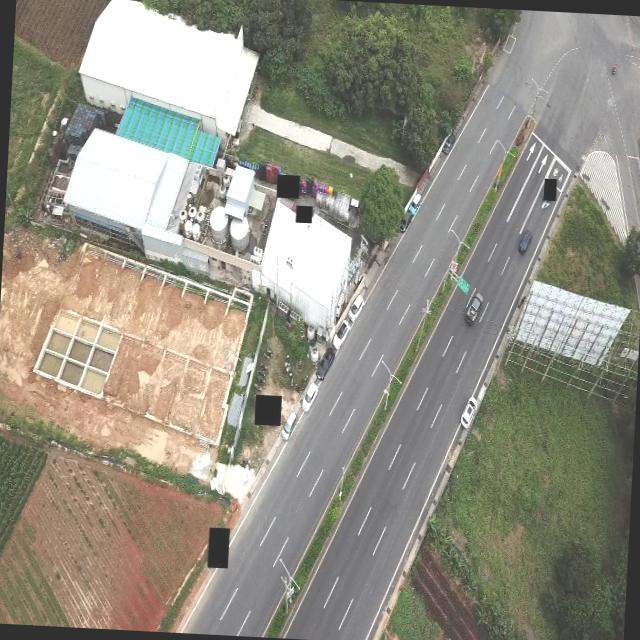car: (331, 316, 352, 350), (465, 290, 484, 324), (315, 347, 334, 381), (461, 394, 478, 428), (301, 380, 319, 412), (348, 290, 366, 322), (280, 410, 297, 441), (405, 190, 422, 219), (399, 211, 413, 237), (442, 131, 457, 155), (518, 229, 532, 254)
